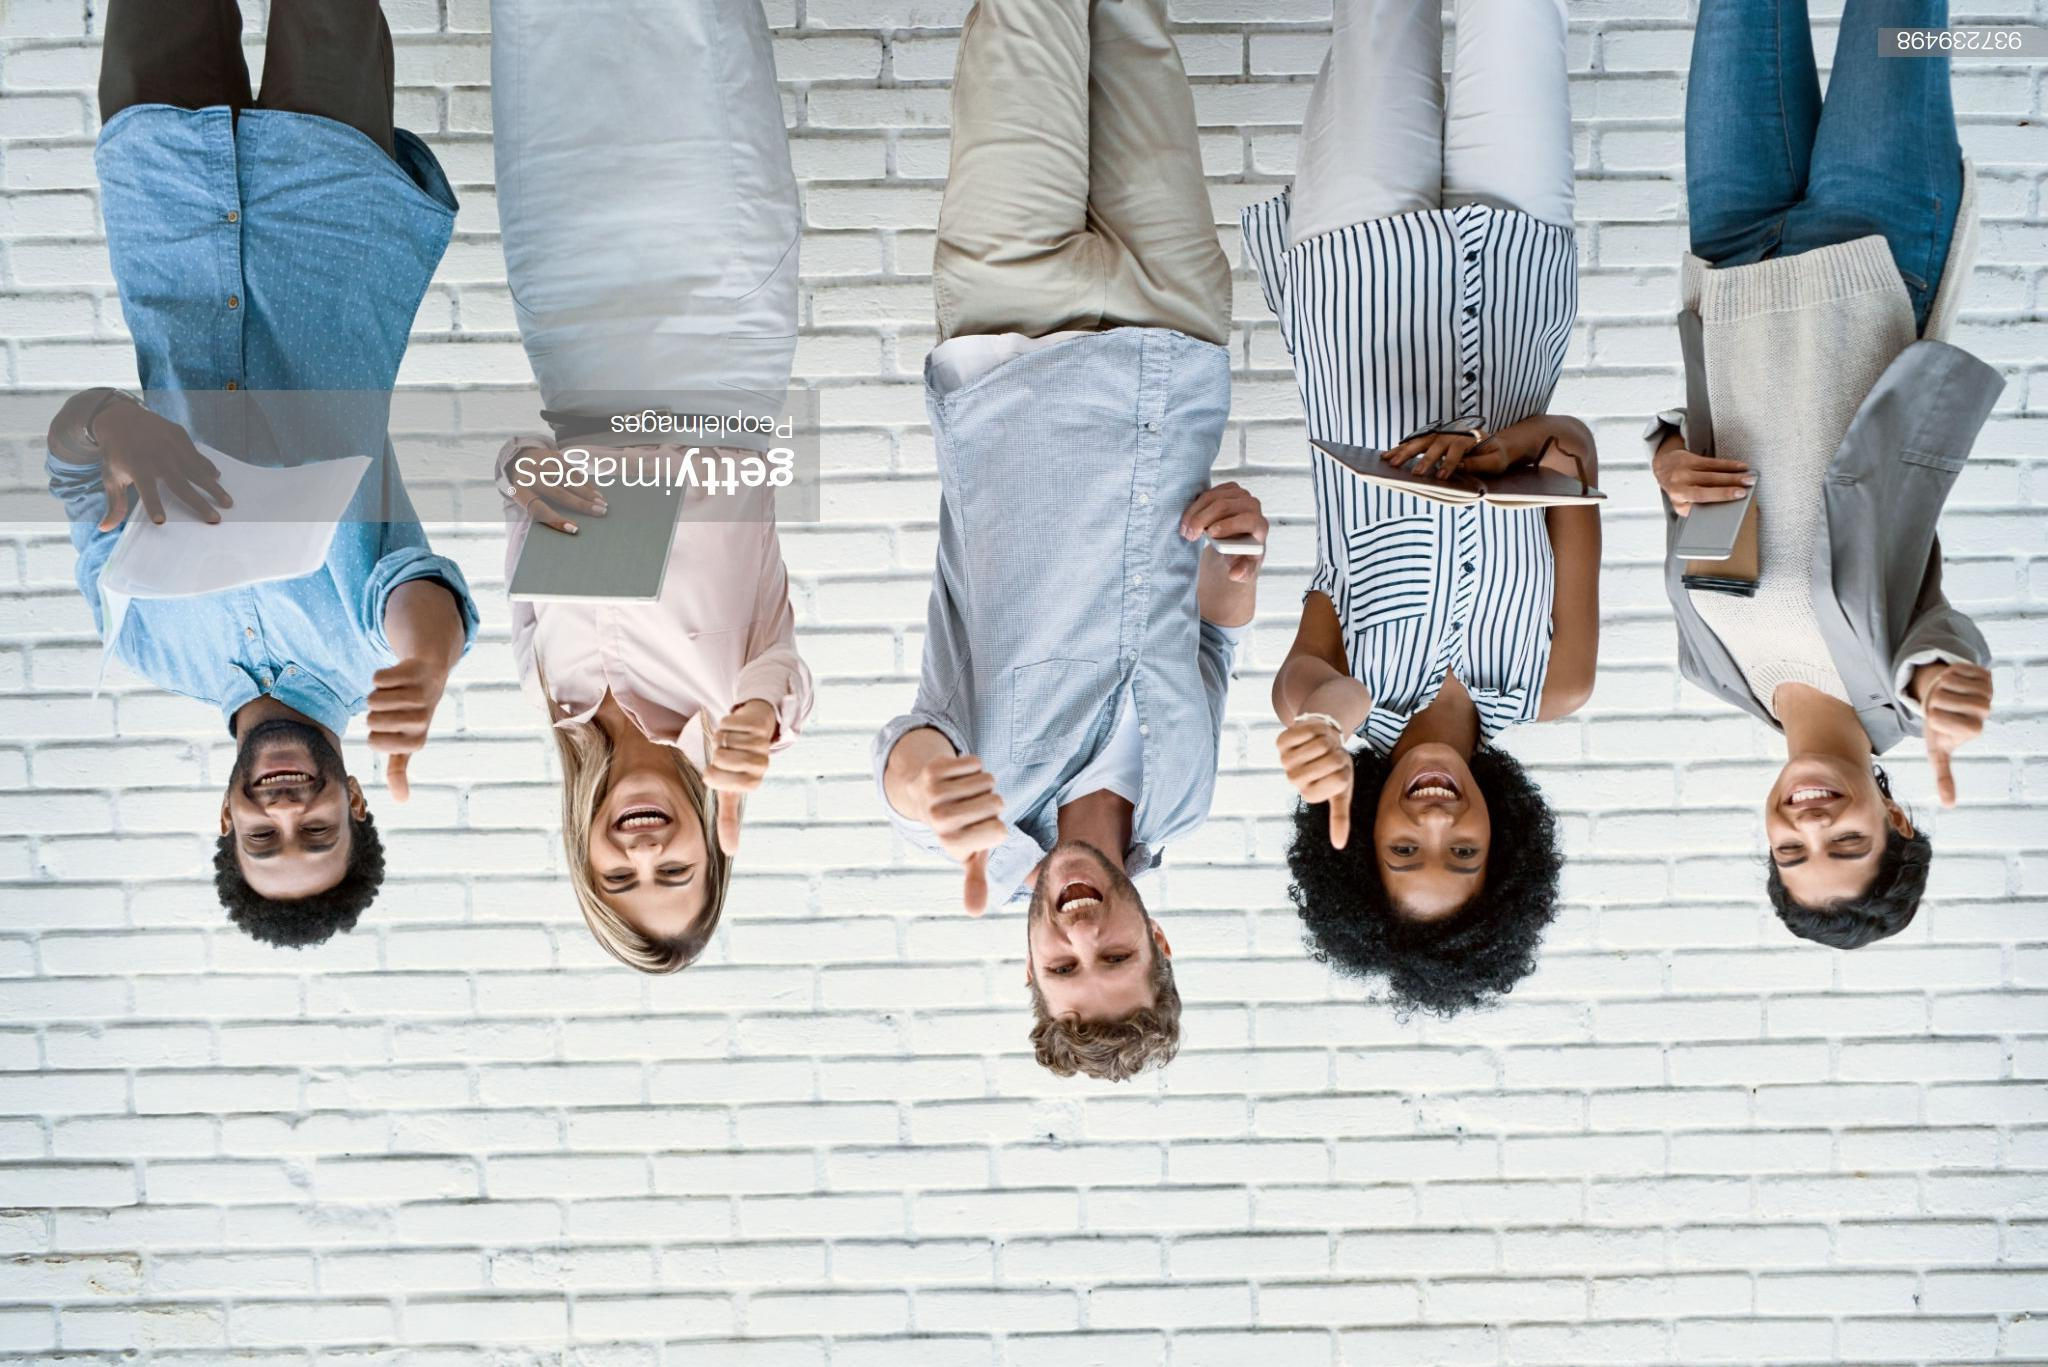thumbsdown: (923, 757, 1006, 917), (1924, 664, 1995, 809), (705, 716, 772, 857), (1276, 728, 1353, 851), (368, 667, 432, 803)
